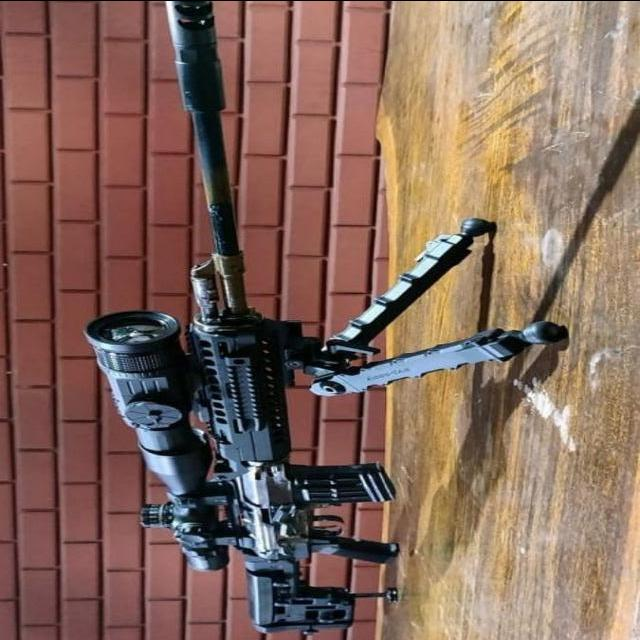scope: (83, 305, 229, 587)
sniper rifle: (102, 1, 573, 633)
